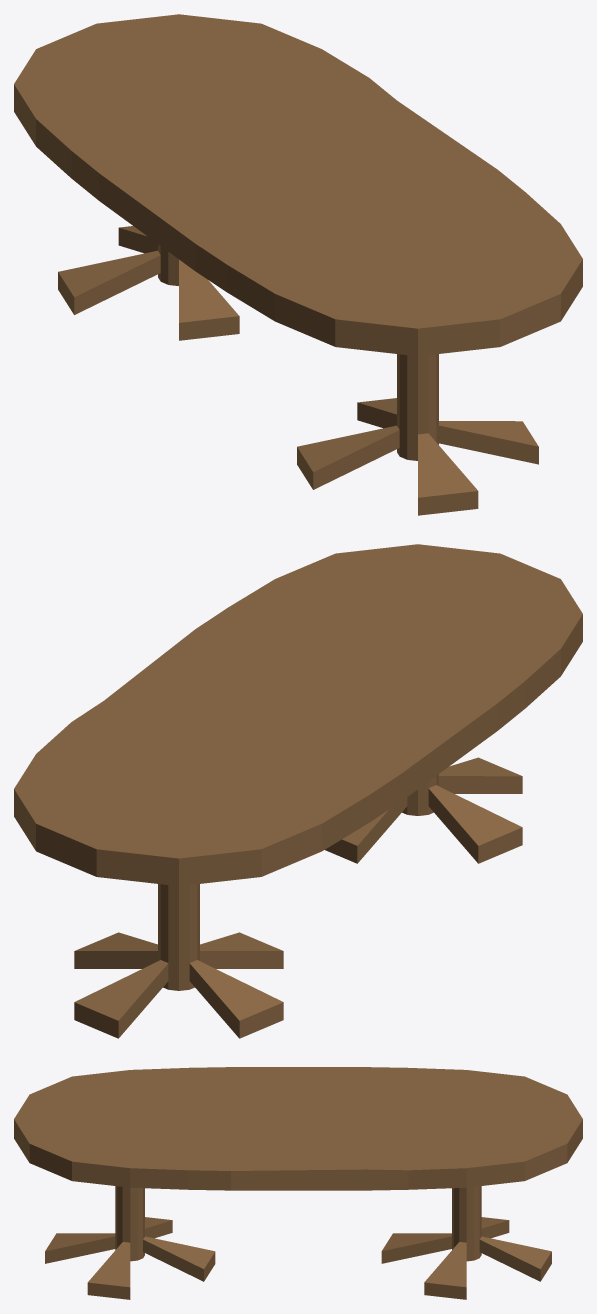
Rendered from long table COMPLETE (1).fbx.
3 views of the same model, one above another, from view 1: azimuth 30°, elevation 25°; view 2: azimuth 150°, elevation 25°; view 3: azimuth 270°, elevation 25° (orthographic). The views are drawn at different scales.
Visible parts, largest first — view 1: pCylinder3; view 2: pCylinder3; view 3: pCylinder3.
Boxes of the visible parts, x1,y1,x2,y2 form: pCylinder3: [14, 14, 582, 515]; pCylinder3: [14, 544, 582, 1038]; pCylinder3: [14, 1067, 582, 1299].
Size of the model in its own units: 3.28 by 2.13 by 7.58.
